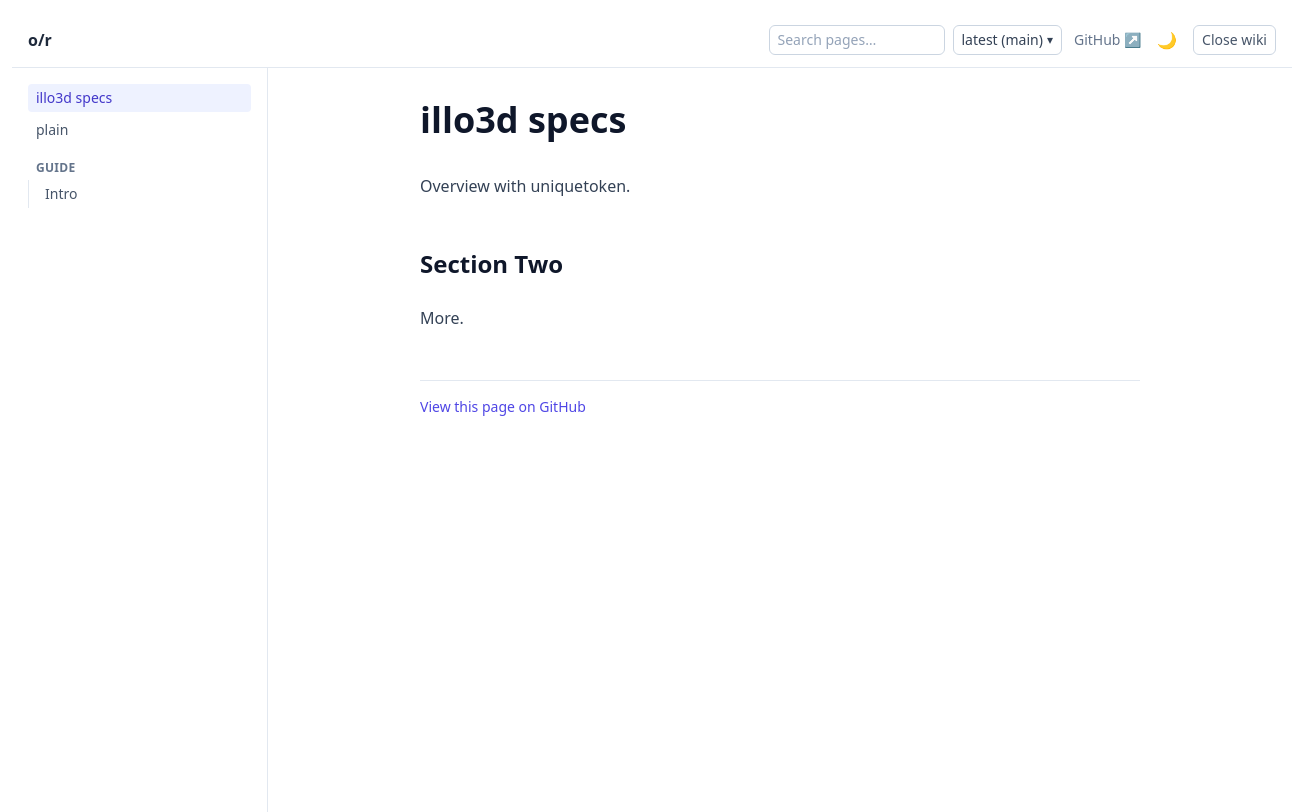
Scenario: resolving and error states › keeps working when the ref listings fail
Click the button "latest (main) ▾".
click(1007, 40)  # box x1=952 y1=24 x2=1062 y2=54
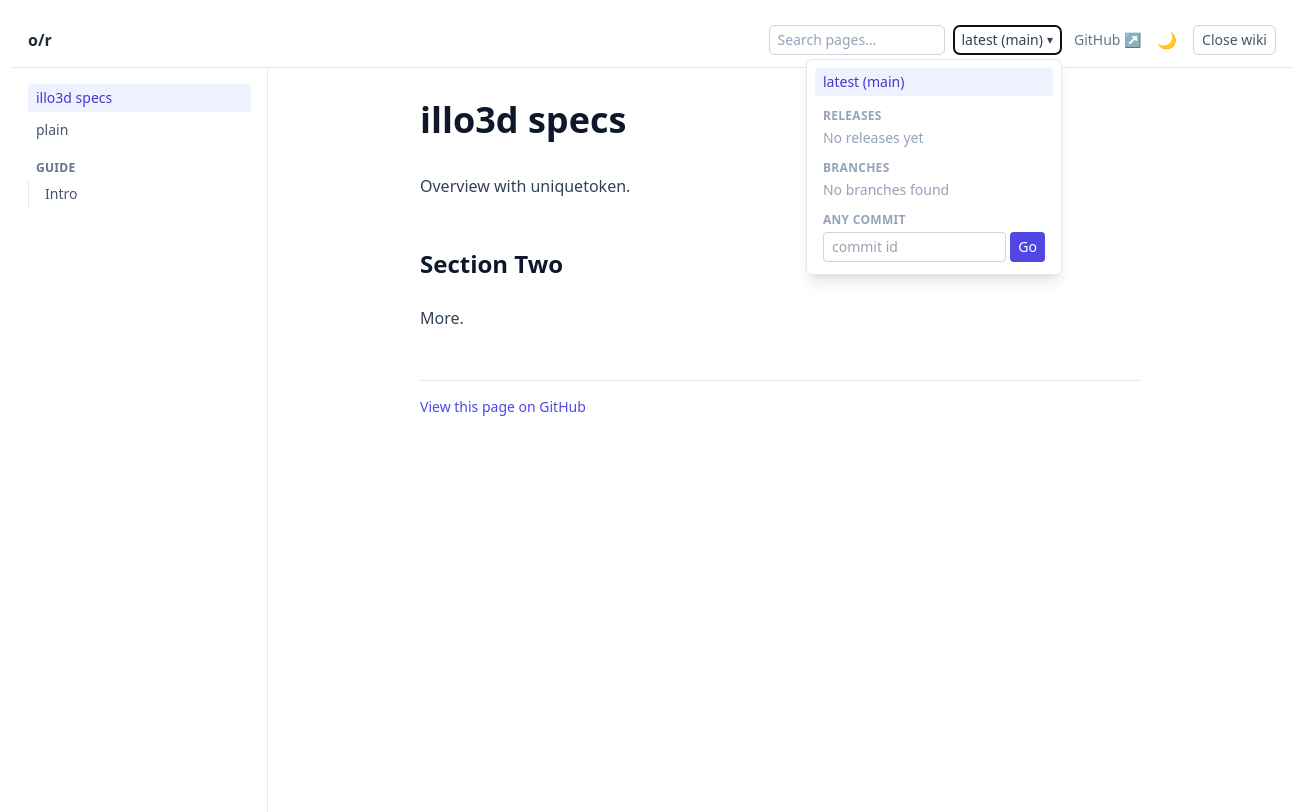
expect the text "No releases yet" is shown: met, box x1=823 y1=128 x2=924 y2=146
